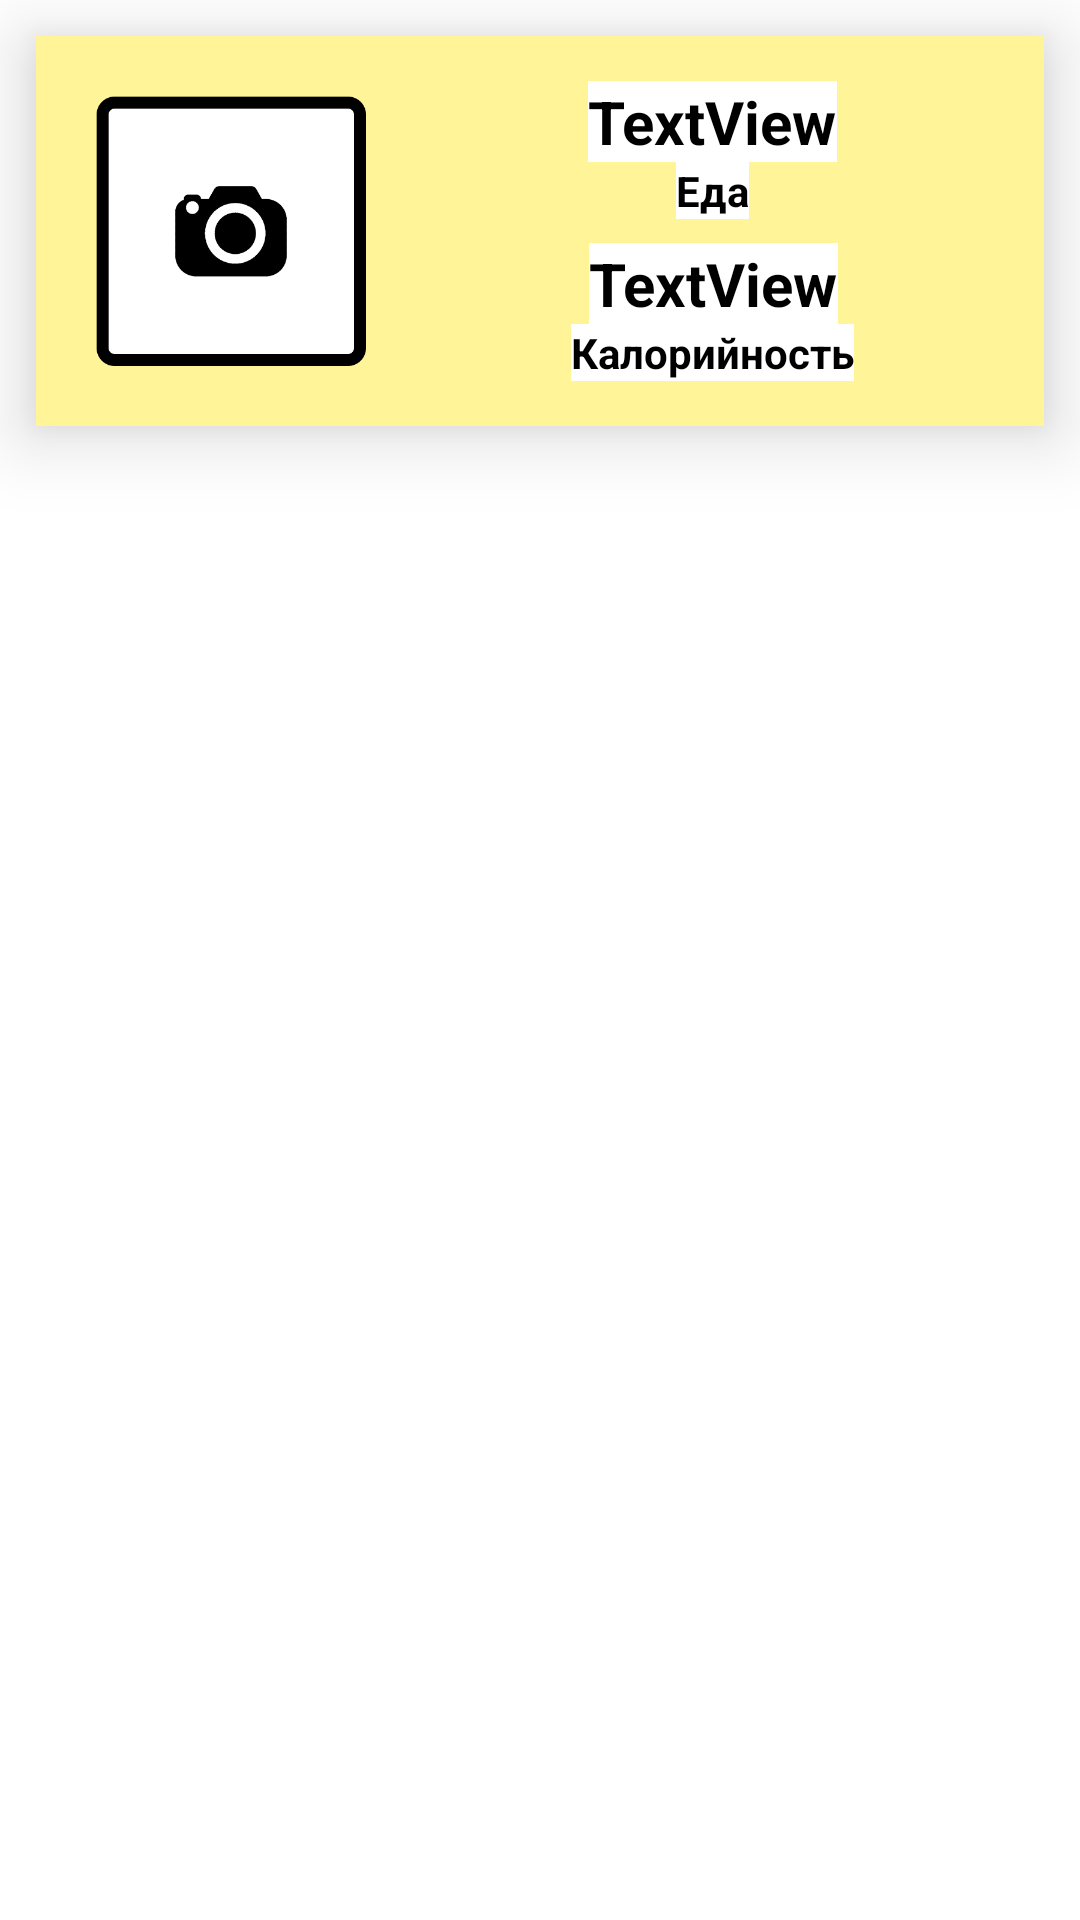

Icons on this 1080 × 1920 Android screen, each with its box as {"x1": x1, "y1": y1, "x2": x2, "y2": y2}:
photo place: {"x1": 96, "y1": 96, "x2": 366, "y2": 366}
